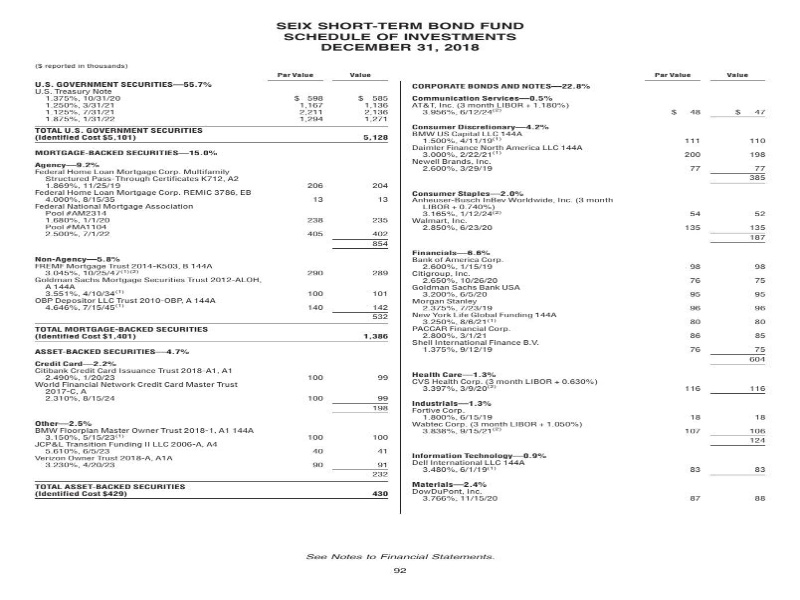table: (390, 64, 789, 516), (25, 57, 408, 519)
